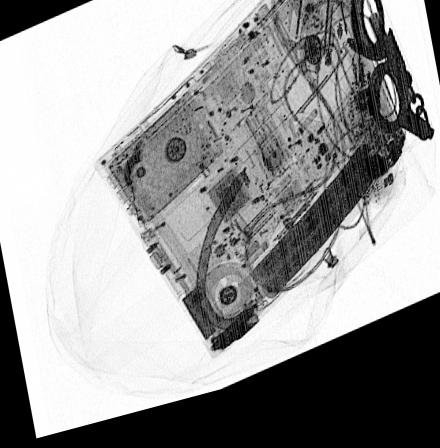HandCuffs: (348, 0, 434, 161)
